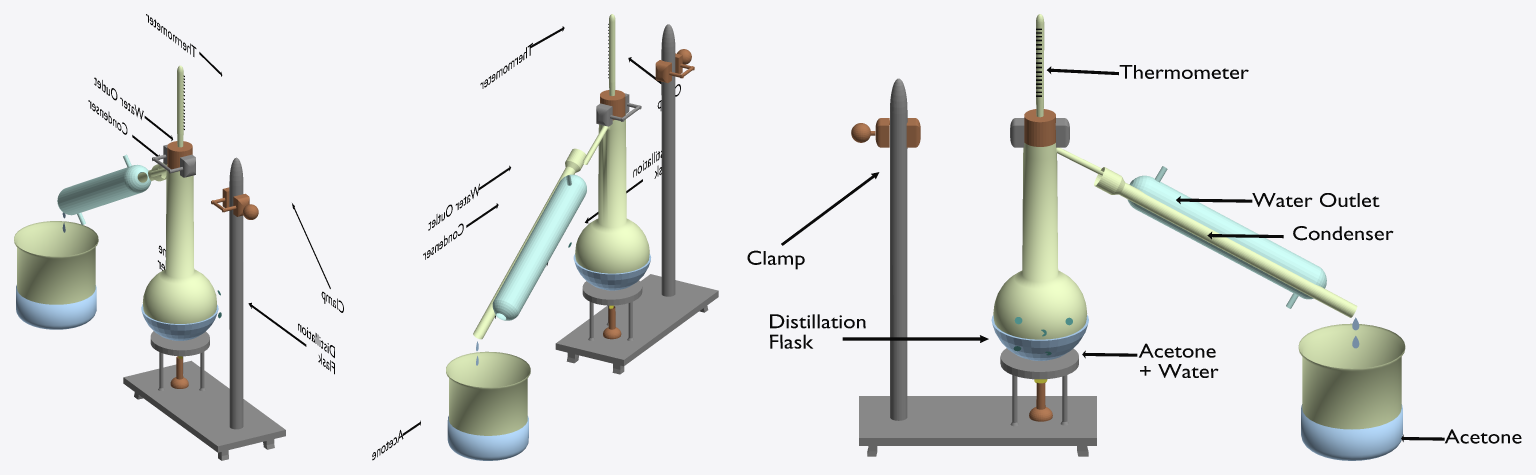
The model's file is DISTILLATION.gltf.
3 views of the same model, side by side, from view 1: azimuth 30°, elevation 25°; view 2: azimuth 150°, elevation 25°; view 3: azimuth 270°, elevation 25° (orthographic). The views are drawn at different scales.
Visible parts, largest first — view 1: Cube, Flask, Beaker, Pipe2, Beaker.001, Flask Stand, Flask.002, Cylinder, Plane.016, Cylinder.004, Cork, Text; view 2: Cube, Flask, Beaker, Pipe2, Beaker.001, Flask Stand, Pipe1, Flask.002, Cylinder, Cylinder.004, Plane.016, Cork; view 3: Cube, Flask, Beaker, Pipe2, Pipe1, Beaker.001, Flask Stand, Flask.002, Cylinder, Cork, Text, Plane.016 (+2 smaller).
Boxes of the visible parts, x1,y1,x2,y2 form: Cube: (123, 157, 285, 460); Flask: (142, 164, 216, 323); Beaker: (14, 221, 98, 304); Pipe2: (57, 154, 151, 225); Beaker.001: (16, 285, 96, 329); Flask Stand: (150, 331, 209, 391); Flask.002: (141, 304, 218, 340); Cylinder: (211, 187, 258, 219); Plane.016: (177, 65, 184, 147); Cylinder.004: (152, 144, 195, 177); Cork: (167, 141, 192, 171); Text: (298, 323, 334, 374); Cube: (555, 24, 718, 374); Flask: (575, 113, 649, 273); Beaker: (446, 351, 530, 435); Pipe2: (492, 174, 586, 320); Beaker.001: (447, 416, 528, 460); Flask Stand: (582, 280, 642, 341); Pipe1: (473, 148, 586, 339); Flask.002: (573, 254, 651, 290); Cylinder: (655, 49, 694, 82); Cylinder.004: (596, 93, 641, 126); Plane.016: (608, 14, 615, 95); Cork: (600, 90, 625, 120); Cube: (859, 78, 1096, 456); Flask: (993, 143, 1103, 339); Beaker: (1298, 323, 1405, 429); Pipe2: (1127, 166, 1326, 308); Pipe1: (1094, 167, 1357, 317); Beaker.001: (1301, 404, 1402, 460); Flask Stand: (1000, 348, 1078, 426); Flask.002: (991, 315, 1088, 360); Cylinder: (851, 118, 920, 147); Cork: (1024, 109, 1055, 146); Text: (770, 314, 865, 348); Plane.016: (1036, 14, 1044, 117).
Bounding box in the file's own units: 7.31 × 27.16 × 44.44.
